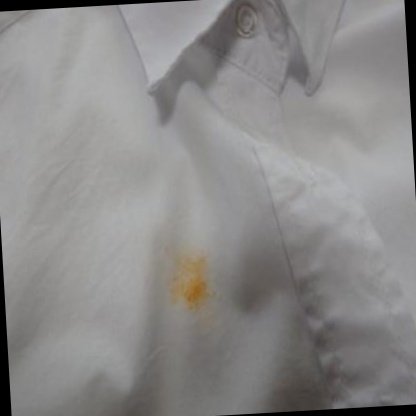kimchi: (158, 254, 221, 311)
